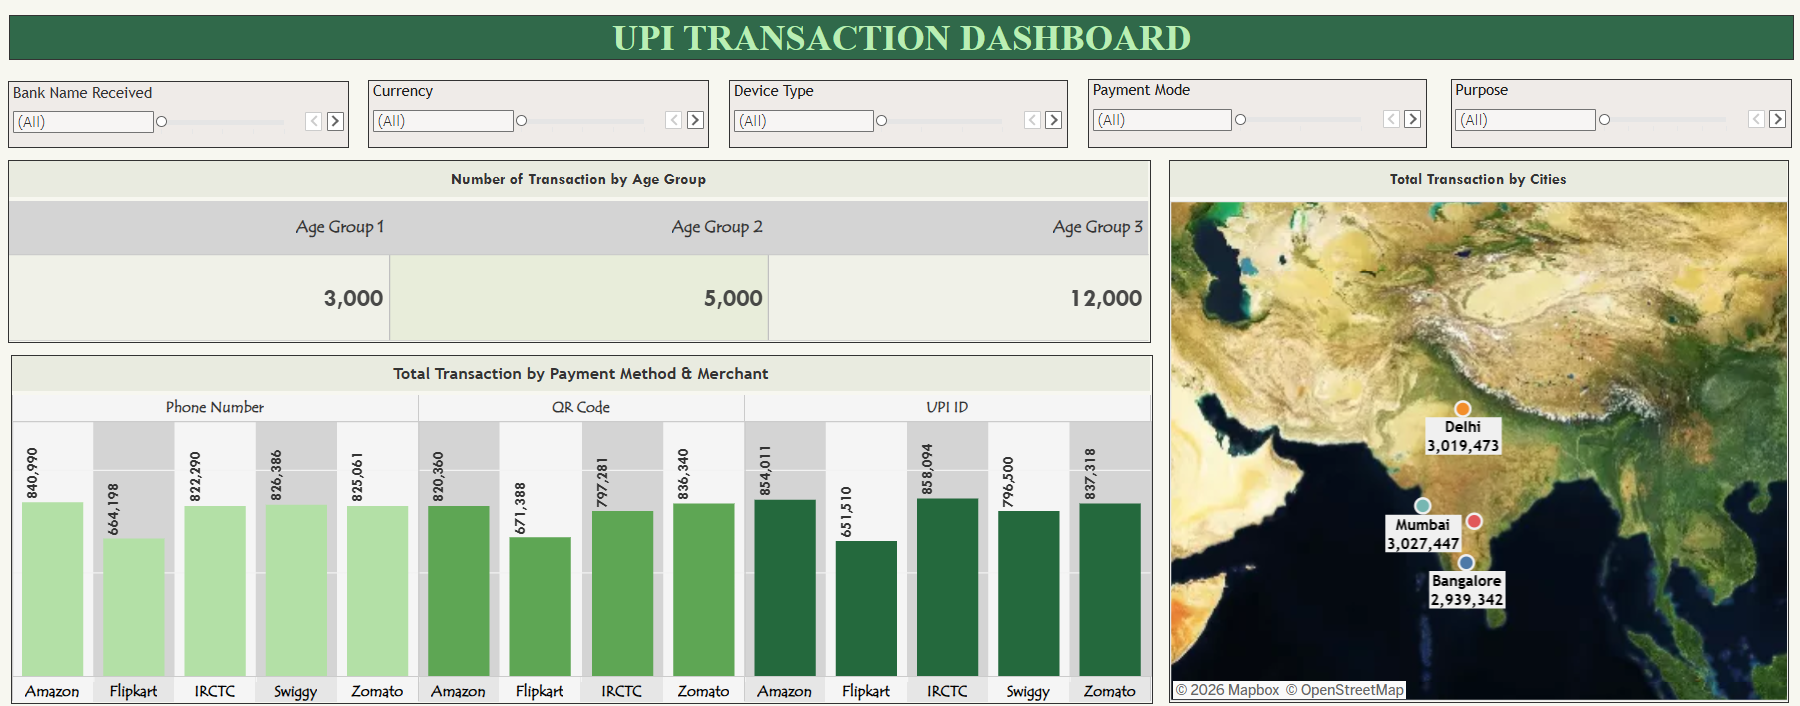

The page's visual inventory and layout, read from the dashboard file:
{"tool":"tableau","page":{"name":"Dashboard 1","canvas":[1000,1000],"units":"permille","ordinal":0},"visuals":[{"type":"text","box":[14.2,28.2,970.9,61.1]},{"type":"filter","title":"Column Chart","param":"[federated.0cssk6d1u08f8y10xr8uv0czzfv9].[none:PaymentMode:nk]","box":[601.3,115.2,184.1,94]},{"type":"filter","title":"Column Chart","param":"[federated.0cssk6d1u08f8y10xr8uv0czzfv9].[none:Purpose:nk]","box":[798.1,115.2,185.5,92.8]},{"type":"filter","title":"Column Chart","param":"[federated.0cssk6d1u08f8y10xr8uv0czzfv9].[none:Currency:nk]","box":[209.7,116.3,185.5,91.7]},{"type":"filter","title":"Column Chart","param":"[federated.0cssk6d1u08f8y10xr8uv0czzfv9].[none:DeviceType:nk]","box":[405.8,116.3,184.1,92.8]},{"type":"filter","title":"Column Chart","param":"[federated.0cssk6d1u08f8y10xr8uv0czzfv9].[none:BankNameReceived:nk]","box":[13.5,117.5,185.5,90.5]},{"type":"worksheet","title":"Card Visual","mark":"Automatic","cols":["Calculation_0665228342665216"],"box":[13.5,225.6,621.2,249.1]},{"type":"worksheet","title":"Map visual","mark":"Automatic","box":[645.3,225.6,336.9,741.5]},{"type":"worksheet","title":"Column Chart","mark":"Automatic","rows":["Amount"],"cols":["PaymentMethod","MerchantName"],"box":[14.9,492.4,621.2,477.1]}]}

Visuals, with their boxes on the dashboard's canvas, which has no fixed pixel size, in thousandths of its width and height (x1, y1, x2, y2). These are canvas units, not pixel positions in the 1800x706 screenshot, which may show the page scaled, cropped or inside an application window:
text: <region>14, 28, 985, 89</region>
"Column Chart" filter: <region>601, 115, 785, 209</region>
"Column Chart" filter: <region>798, 115, 984, 208</region>
"Column Chart" filter: <region>210, 116, 395, 208</region>
"Column Chart" filter: <region>406, 116, 590, 209</region>
"Column Chart" filter: <region>14, 118, 199, 208</region>
"Card Visual" worksheet: <region>14, 226, 635, 475</region>
"Map visual" worksheet: <region>645, 226, 982, 967</region>
"Column Chart" worksheet: <region>15, 492, 636, 970</region>
